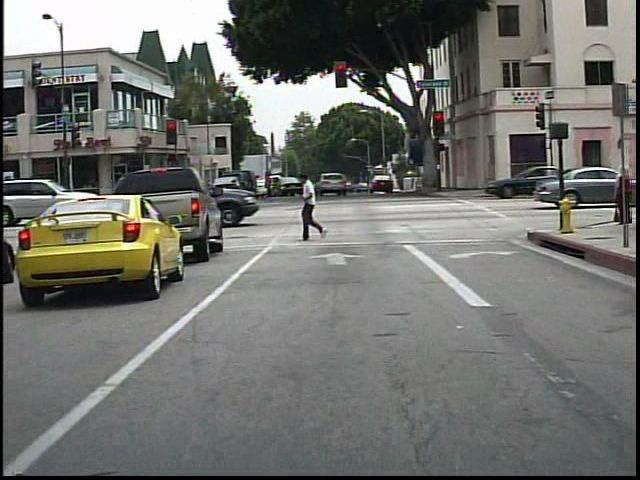person: (294, 172, 333, 244), (610, 163, 633, 228), (262, 167, 279, 206)
